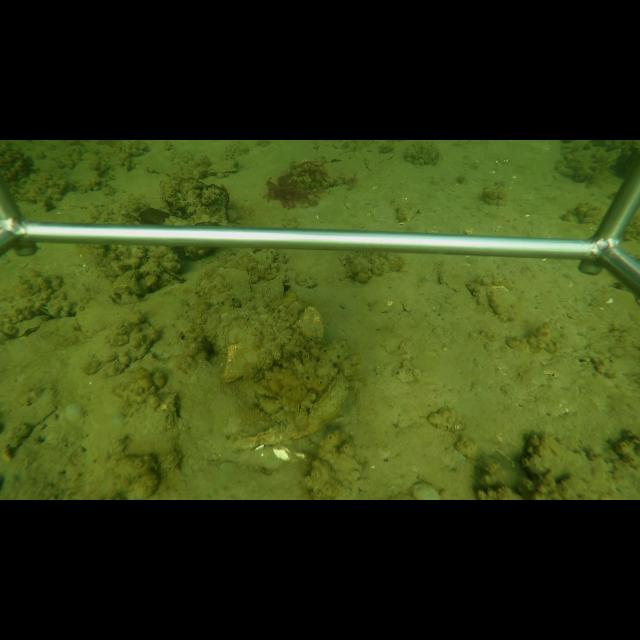Oyster-Closed: (291, 370, 350, 441), (198, 265, 252, 302), (6, 313, 66, 340), (127, 321, 158, 362), (296, 304, 326, 343), (393, 200, 421, 224), (160, 270, 187, 283)
